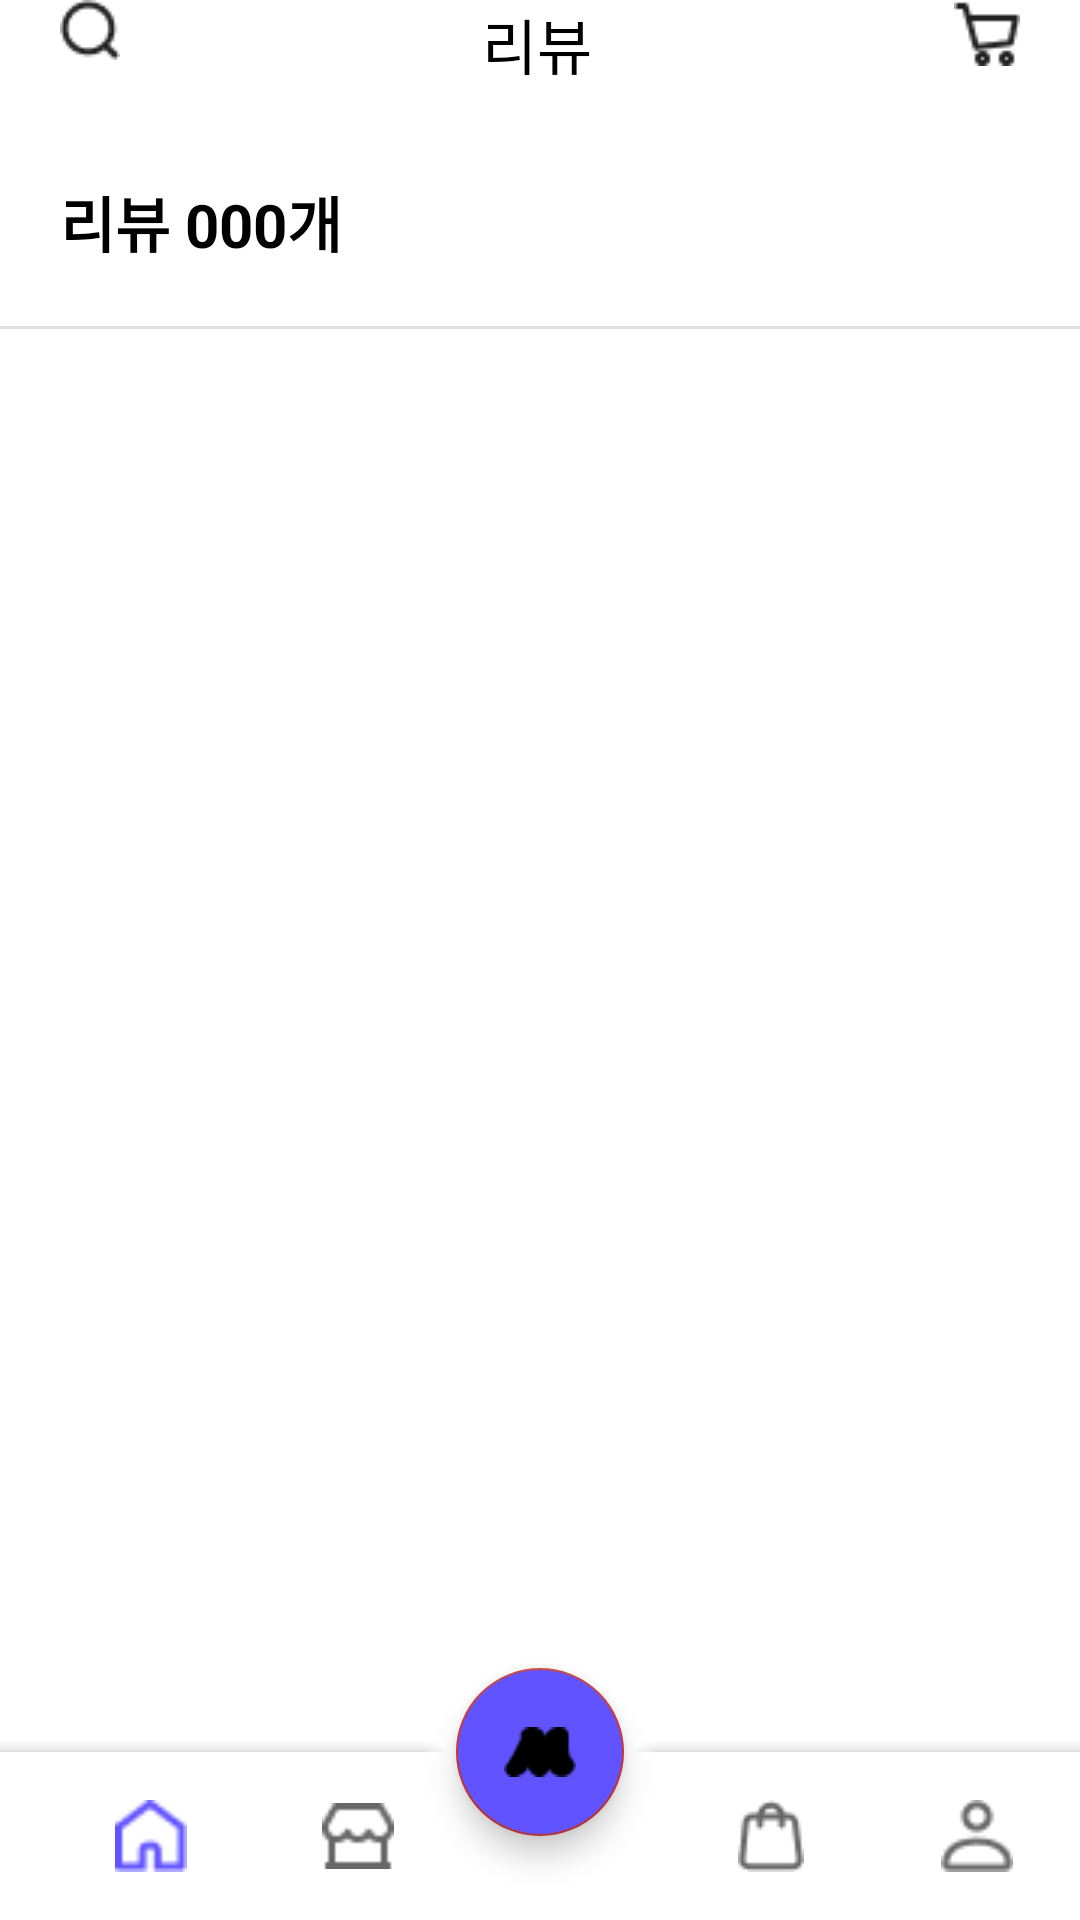

Icon click points for this 1080x1920 phone screenshot, format (x,y):
cart: (987,34)
search: (90,30)
